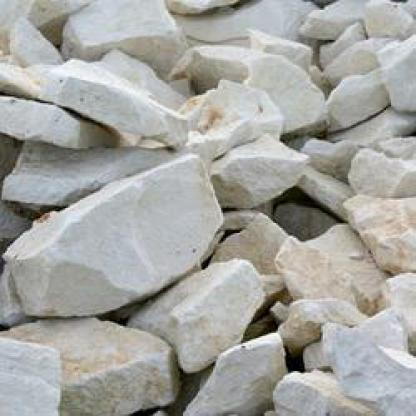Sedimentary_Limestone: (10, 162, 236, 315), (2, 324, 188, 414), (278, 222, 388, 310), (53, 5, 205, 62), (216, 136, 320, 208), (310, 70, 392, 130)
